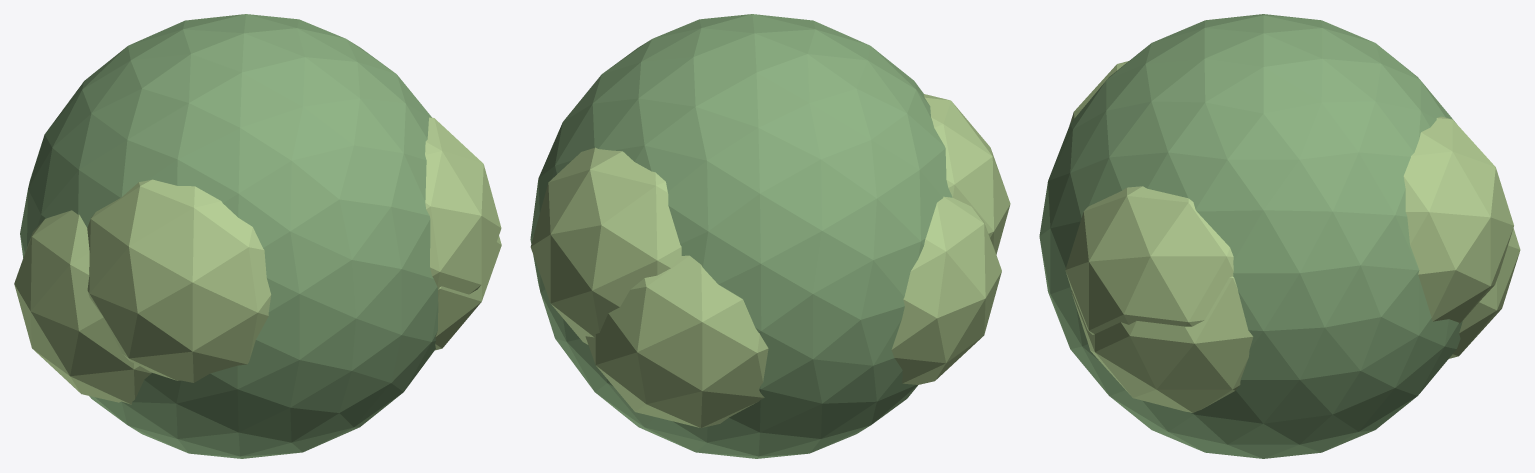
File: bush.glb
The picture shows the model from 3 angles, left to right: view 1: azimuth 30°, elevation 25°; view 2: azimuth 150°, elevation 25°; view 3: azimuth 270°, elevation 25°; orthographic projection.
Visible parts, largest first — view 1: bush_hedge, bush_leaf2; view 2: bush_hedge, bush_leaf2; view 3: bush_hedge, bush_leaf2.
Part boxes in pixels (x1,y1,x2,y2): bush_hedge: [20, 14, 438, 458]; bush_leaf2: [14, 117, 501, 404]; bush_hedge: [530, 14, 952, 458]; bush_leaf2: [530, 94, 1010, 427]; bush_hedge: [1039, 14, 1462, 458]; bush_leaf2: [1065, 61, 1520, 412].
Bounding box in the file's own units: 1.11 × 1 × 1.07.
